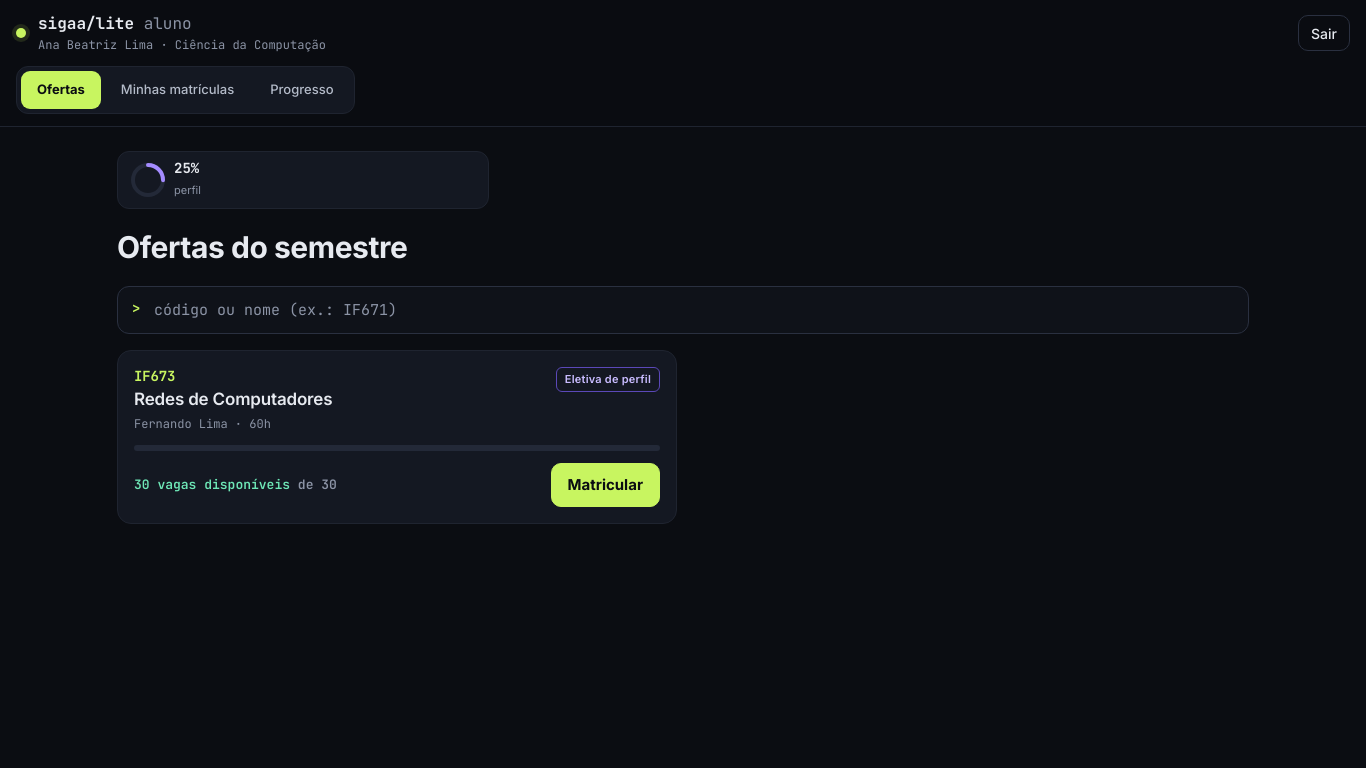
confirmação de matrícula › "Voltar" e Esc fecham sem matricular
Click the button with aria-label "Matricular em IF673": (605, 485) [550,463,660,507]
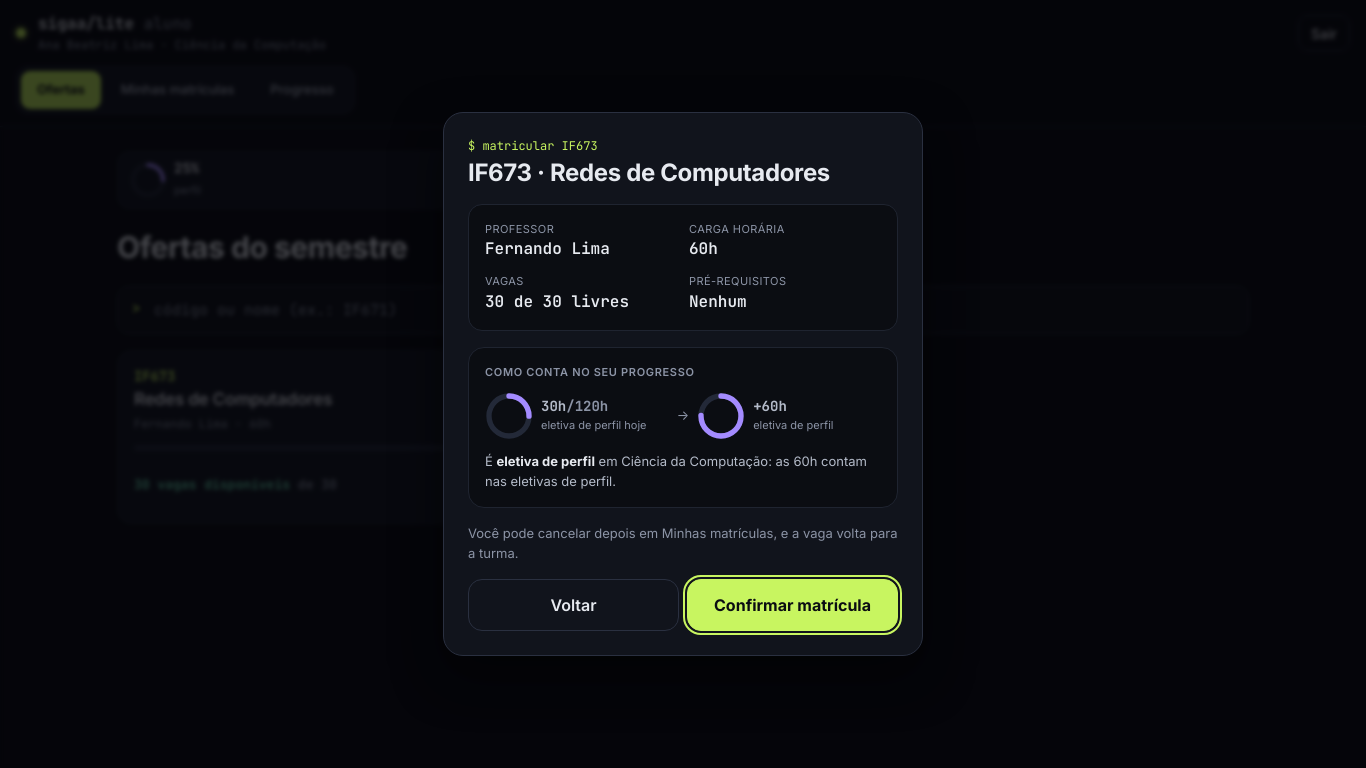
Click the button "Voltar": (574, 605) [468,579,679,631]
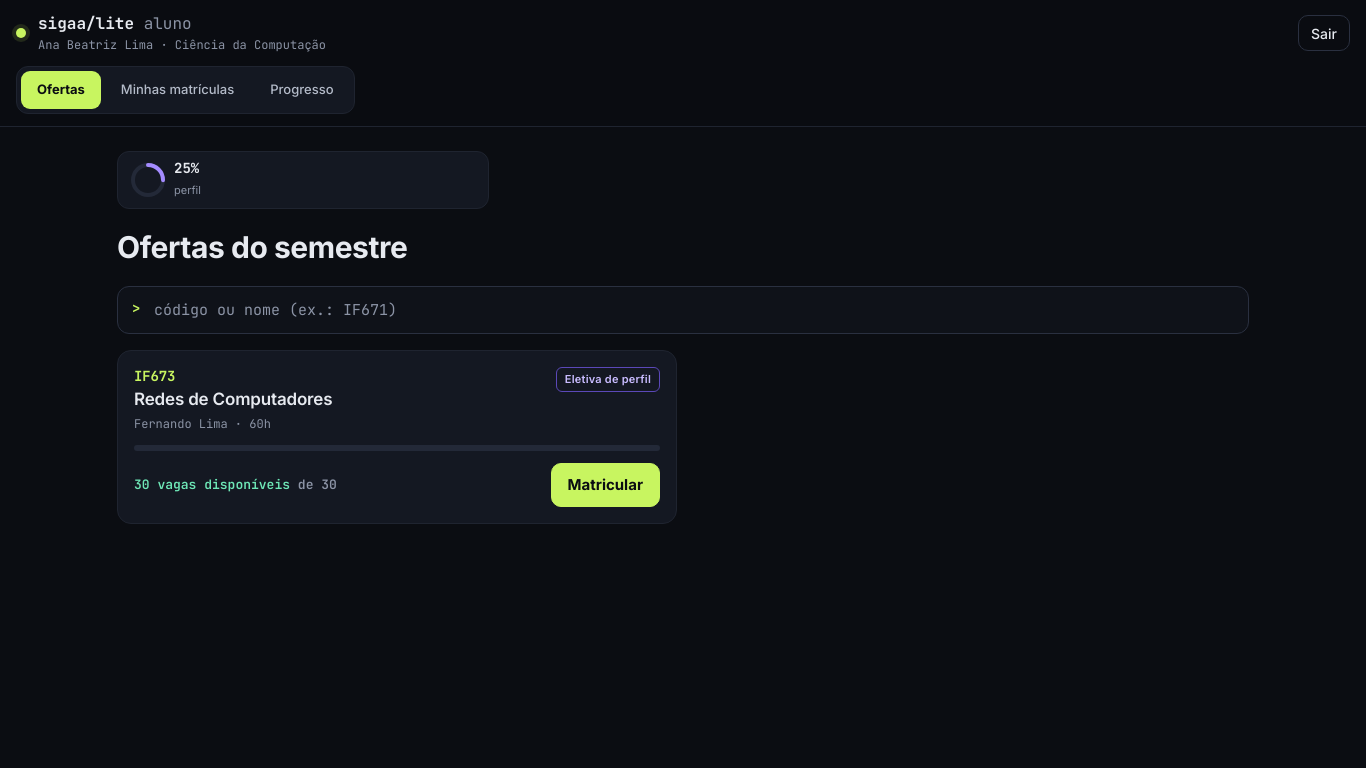
Expected: the dialog is gone
Click the button with aria-label "Matricular em IF673": (605, 485) [550,463,660,507]
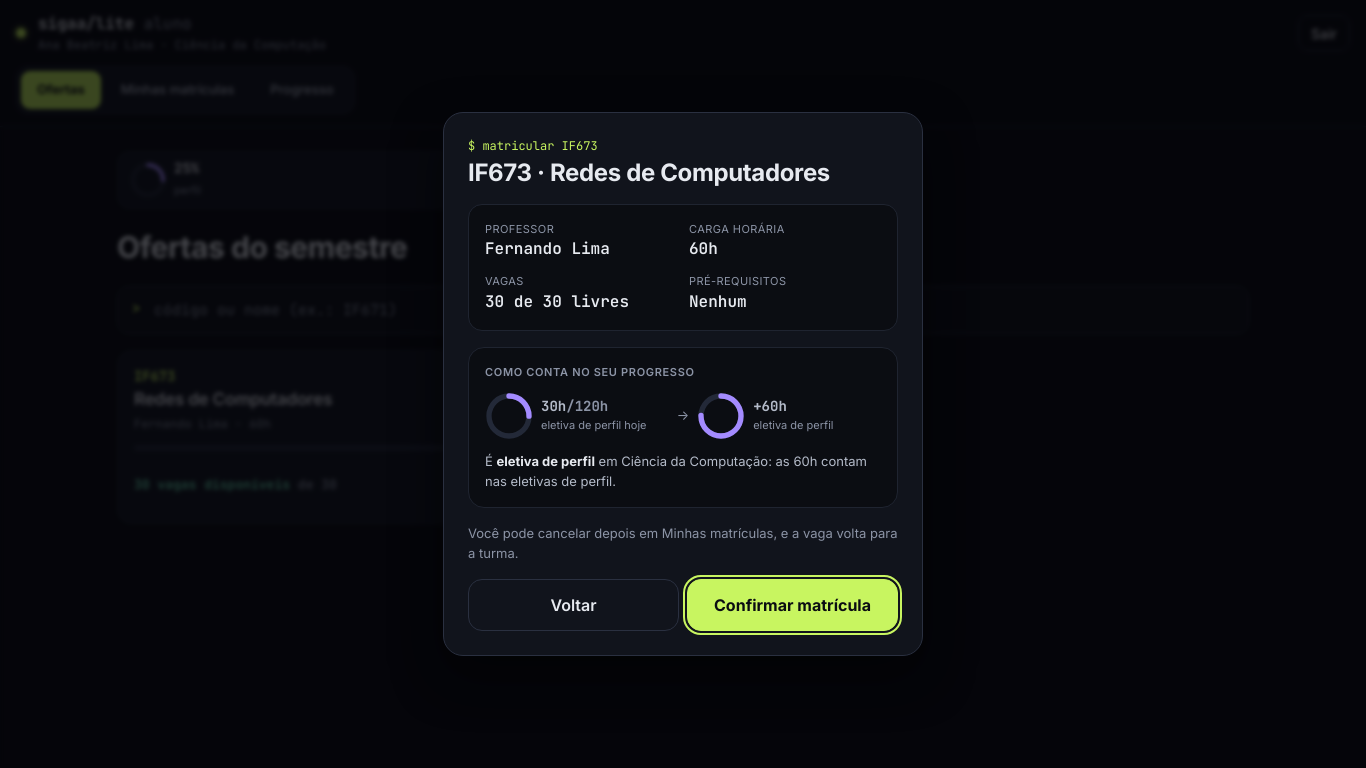
Press Escape
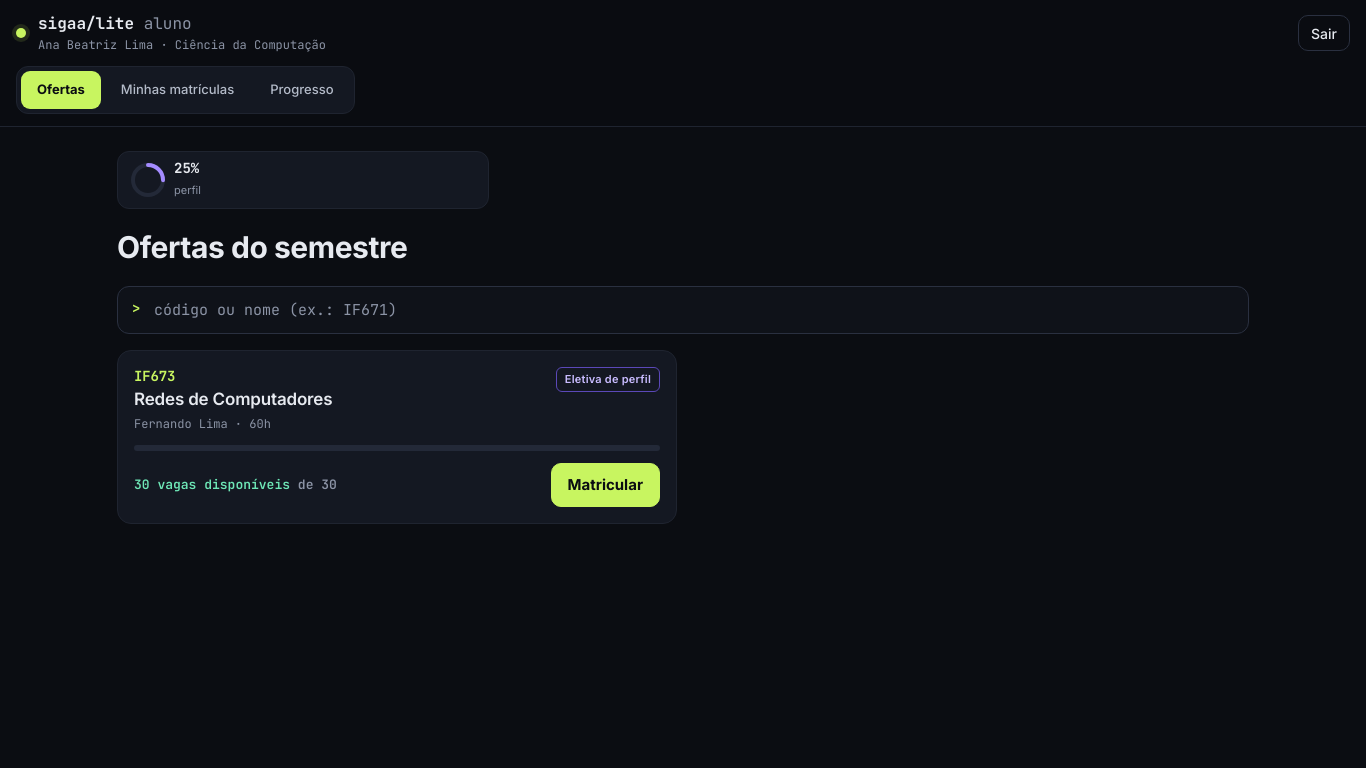
Expected: the dialog is gone
